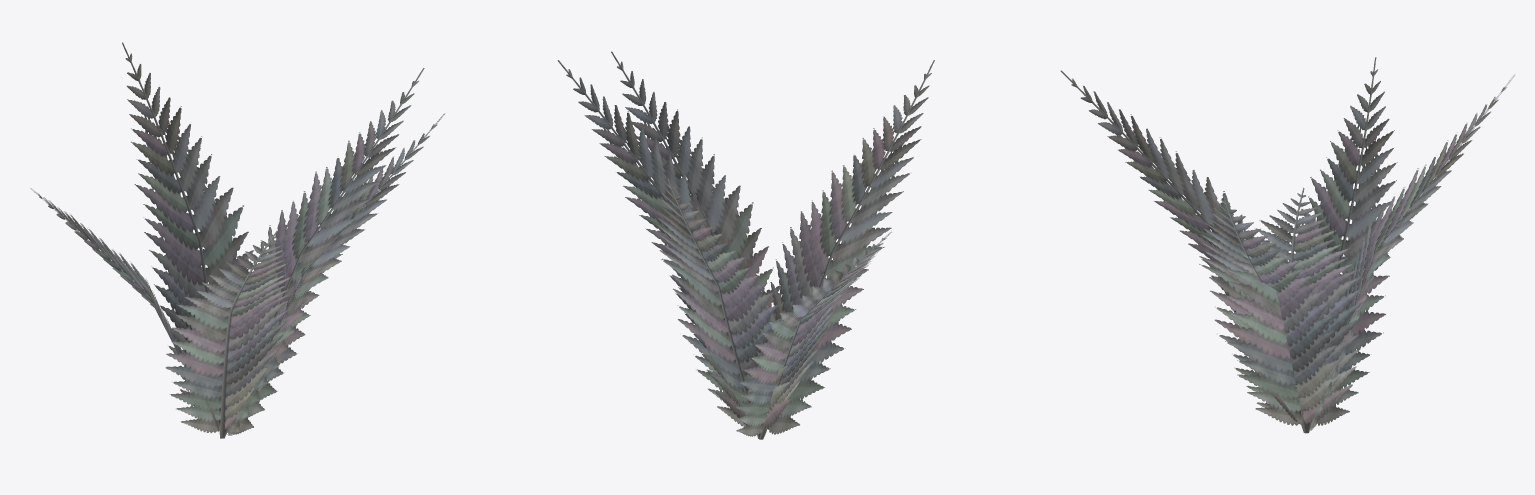
The model's file is fern_tall_l1.gltf.
3 renders of one model, left to right at view 1: azimuth 30°, elevation 25°; view 2: azimuth 150°, elevation 25°; view 3: azimuth 270°, elevation 25°, orthographic. The views are drawn at different scales.
Visible parts, largest first — view 1: fern_tall_l1; view 2: fern_tall_l1; view 3: fern_tall_l1.
Boxes of the visible parts, left/top/right/bottom form: fern_tall_l1: left=30, top=42, right=445, bottom=438; fern_tall_l1: left=557, top=51, right=934, bottom=439; fern_tall_l1: left=1060, top=57, right=1514, bottom=433.
Size of the model in its own units: 1.97 by 1.59 by 1.94.
Materials: 1 (1 with a texture image).
